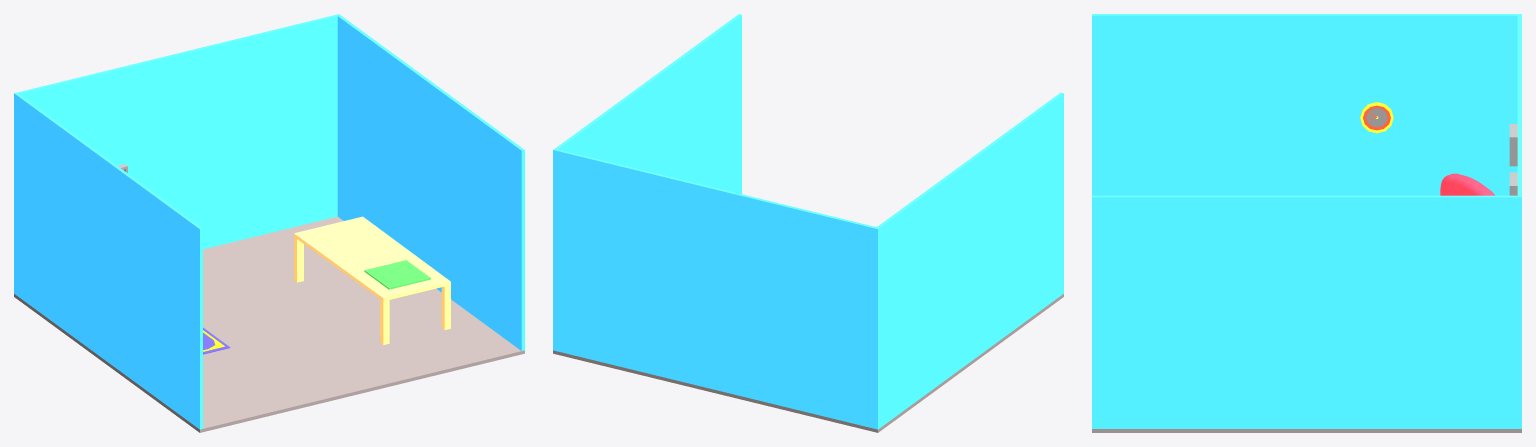
The model's file is OynamaAlanıv2.fbx.
The picture shows the model from 3 angles, left to right: view 1: azimuth 30°, elevation 25°; view 2: azimuth 150°, elevation 25°; view 3: azimuth 270°, elevation 25°; orthographic projection. The views are drawn at different scales.
Parts seen in each view (by area): view 1: OyunOdası, Masa, Bez; view 2: OyunOdası; view 3: OyunOdası.
Part boxes in pixels (x1,y1,x2,y2): OyunOdası: (14,14,524,432); Masa: (294,216,450,344); Bez: (364,260,430,289); OyunOdası: (553,14,1063,432); OyunOdası: (1092,14,1521,432).
Size of the model in its own units: 204 by 122 by 202.
